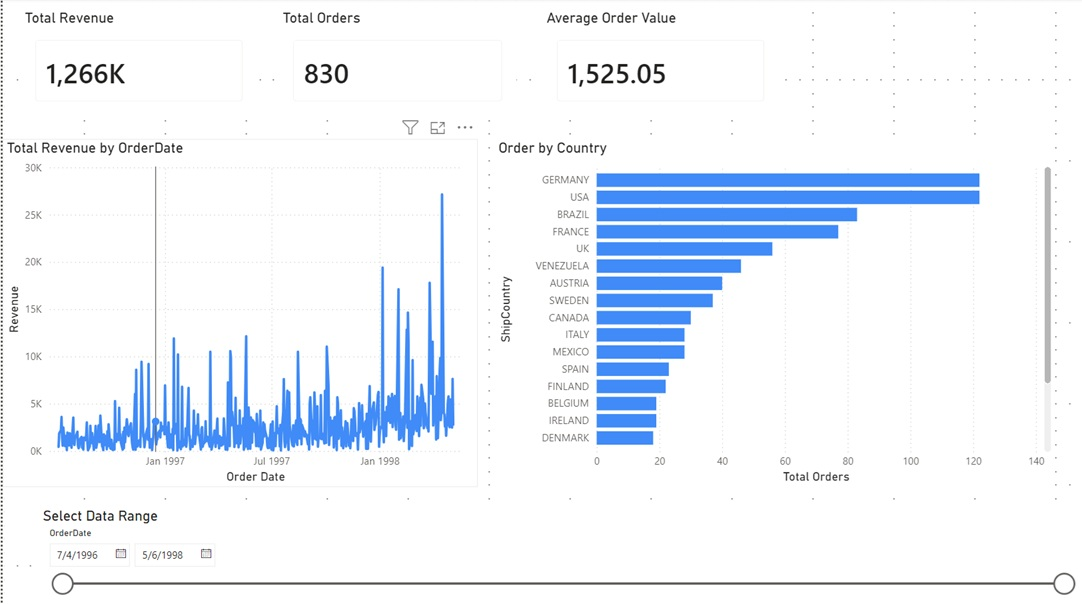

The dashboard page shown, as its layout file describes it:
{"tool":"powerbi","page":{"name":"Sales Overview","canvas":[1280,720],"ordinal":0},"visuals":[{"type":"cardVisual","title":"Total Revenue","fields":{"Data":["OrderDetails.Total Revenue"]},"box":[21.3,13,280.9,126.8],"z":0},{"type":"cardVisual","title":"Total Orders","fields":{"Data":["Orders.Total Orders"]},"box":[327.1,13,282.1,126.8],"z":1000},{"type":"cardVisual","title":"Average Order Value","fields":{"Data":["Orders.Average Order Value"]},"box":[640,13,280.9,126.8],"z":2000},{"type":"lineChart","fields":{"Category":["Orders.OrderDate"],"Y":["OrderDetails.Total Revenue"]},"box":[0,167.1,563,412.4],"z":3000},{"type":"clusteredBarChart","title":"Order by Country","fields":{"Category":["Orders.ShipCountry"],"Y":["Orders.Total Orders"]},"box":[583.1,167.1,664.9,412.4],"z":4000},{"type":"slicer","title":"Select Data Range","fields":{"Values":["Orders.OrderDate"]},"box":[42.7,603.3,1237.3,117.3],"z":5000}]}

Visuals, with their boxes in screenshot pixels (x1, y1, x2, y2), scaled from the page's 1280x720 canvas onto the 1082x604 screenshot:
"Total Revenue" cardVisual: 18/11/255/117
"Total Orders" cardVisual: 277/11/515/117
"Average Order Value" cardVisual: 541/11/778/117
lineChart - Orders.OrderDate x OrderDetails.Total Revenue: 0/140/476/486
"Order by Country" clusteredBarChart: 493/140/1055/486
"Select Data Range" slicer: 36/506/1081/603
